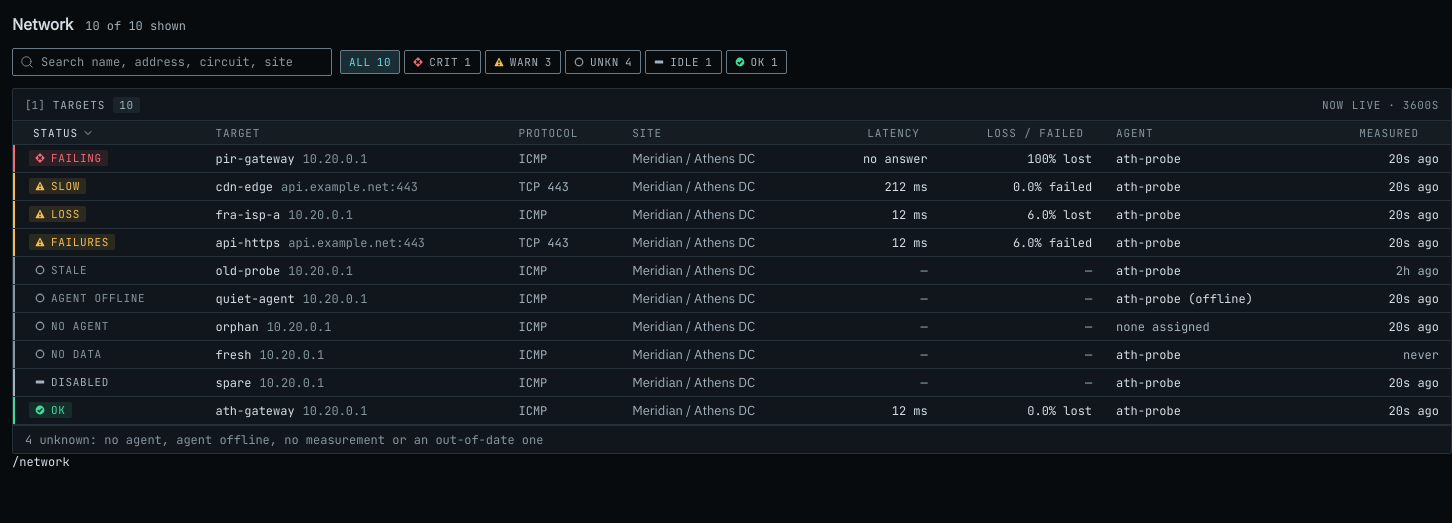
Test: empty, error and provenance › keeps the last good rows under a banner when only a refresh fails
Click the button "WARN 3" at (523, 62), box [485,50,561,74]
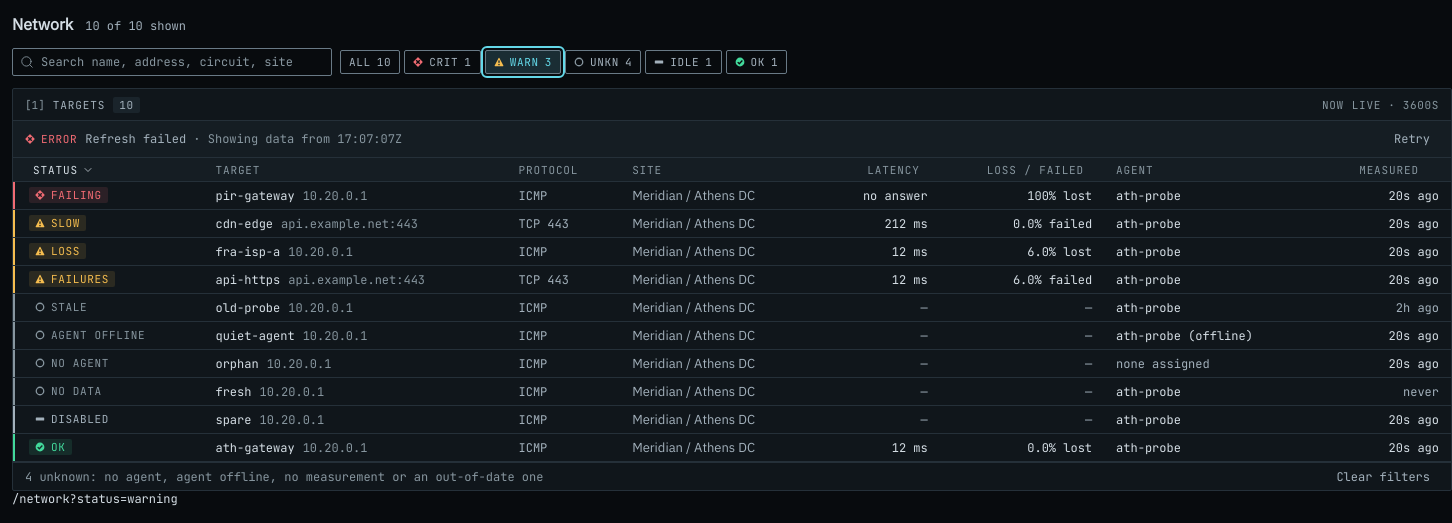
Check: the table named "Network targets" is shown, box [13,158,1451,462]
Check: the text "Refresh failed" is shown, box [85,131,186,147]
